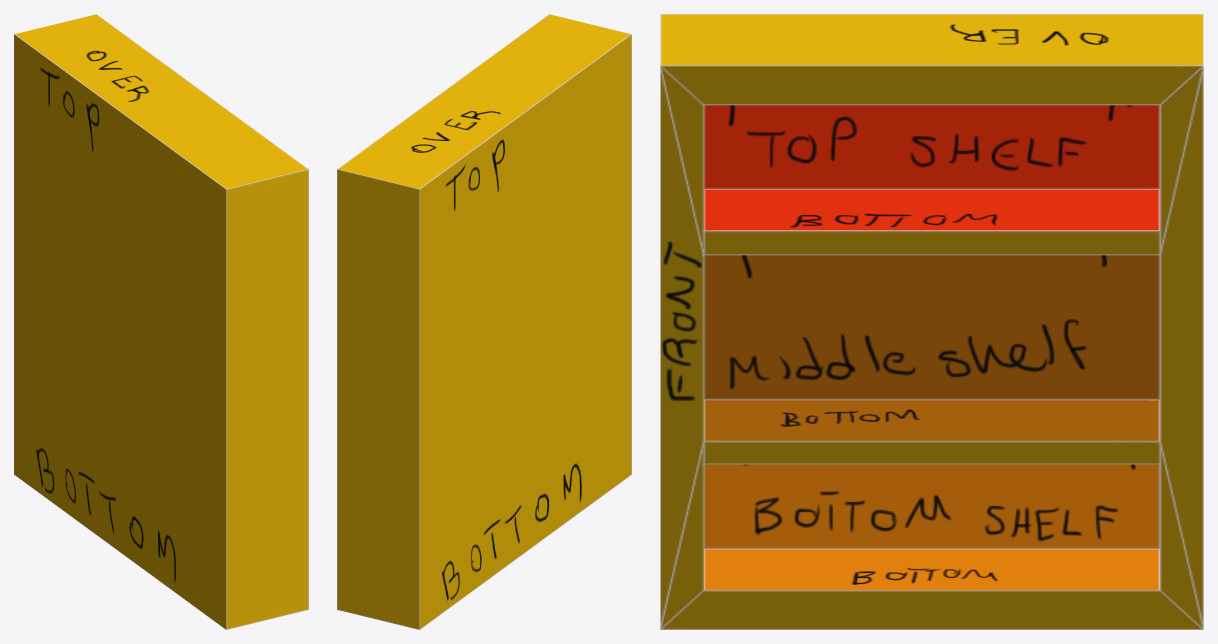
Rendered from hs_bookshelf.fbx.
3 views of the same model, side by side, from view 1: azimuth 30°, elevation 25°; view 2: azimuth 150°, elevation 25°; view 3: azimuth 270°, elevation 25° (orthographic). The views are drawn at different scales.
Visible parts, largest first — view 1: bookshelf; view 2: bookshelf; view 3: bookshelf.
Part boxes in pixels (<box>): bookshelf: <box>14,14,308,629</box>; bookshelf: <box>337,14,631,629</box>; bookshelf: <box>660,14,1203,629</box>.
Size of the model in its own units: 14.25 by 72.62 by 63.4.
